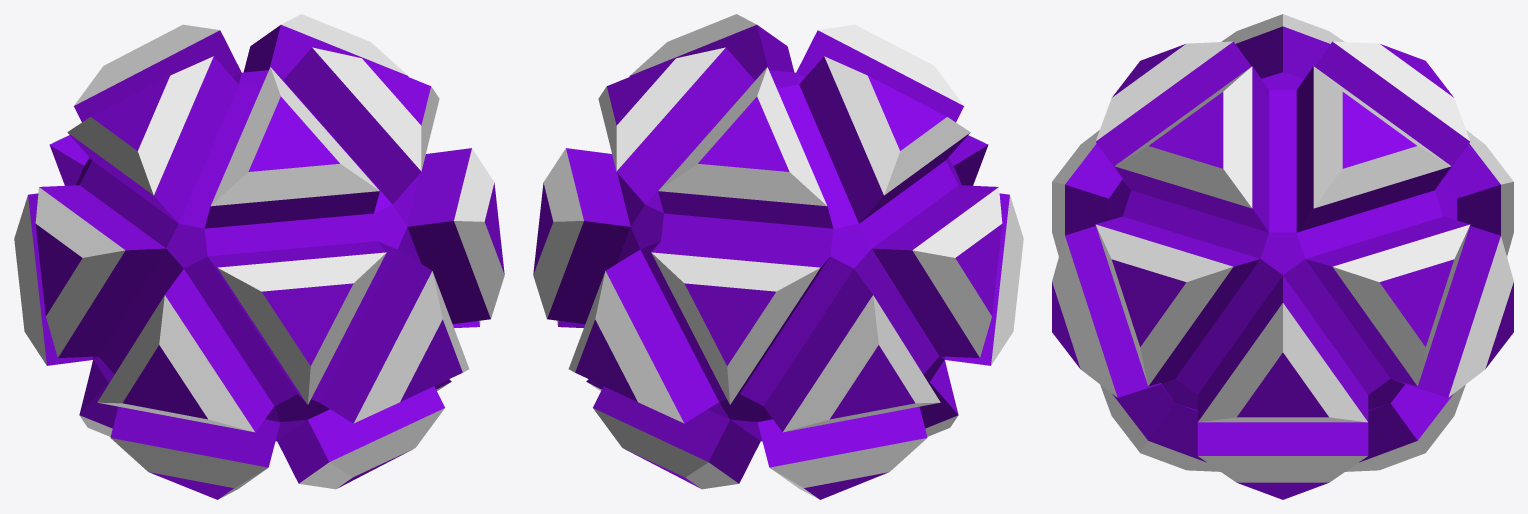
File: boss1.fbx
3 views of the same model, side by side, from view 1: azimuth 30°, elevation 25°; view 2: azimuth 150°, elevation 25°; view 3: azimuth 270°, elevation 25° (orthographic).
Visible parts, largest first — view 1: Boss1; view 2: Boss1; view 3: Boss1.
Boxes of the visible parts, x1,y1,x2,y2 form: Boss1: [14, 14, 504, 499]; Boss1: [533, 14, 1023, 499]; Boss1: [1052, 14, 1513, 499].
Size of the model in its own units: 1208 by 1145 by 1149.
